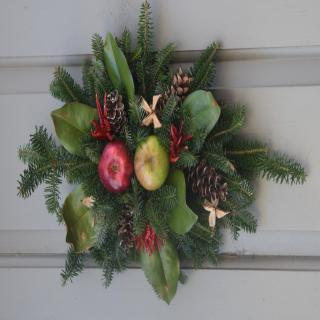Apple: (132, 136, 170, 192), (99, 139, 132, 201)
